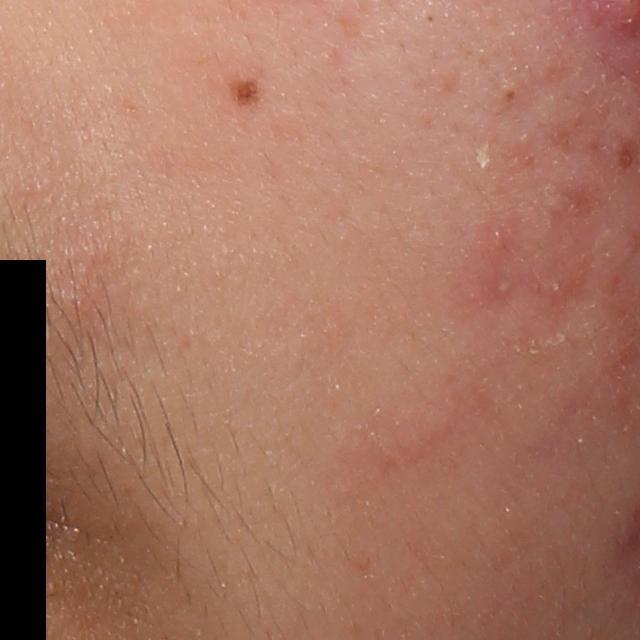comedo: (498, 82, 523, 105), (616, 144, 637, 171)
nevus: (225, 77, 260, 106)
